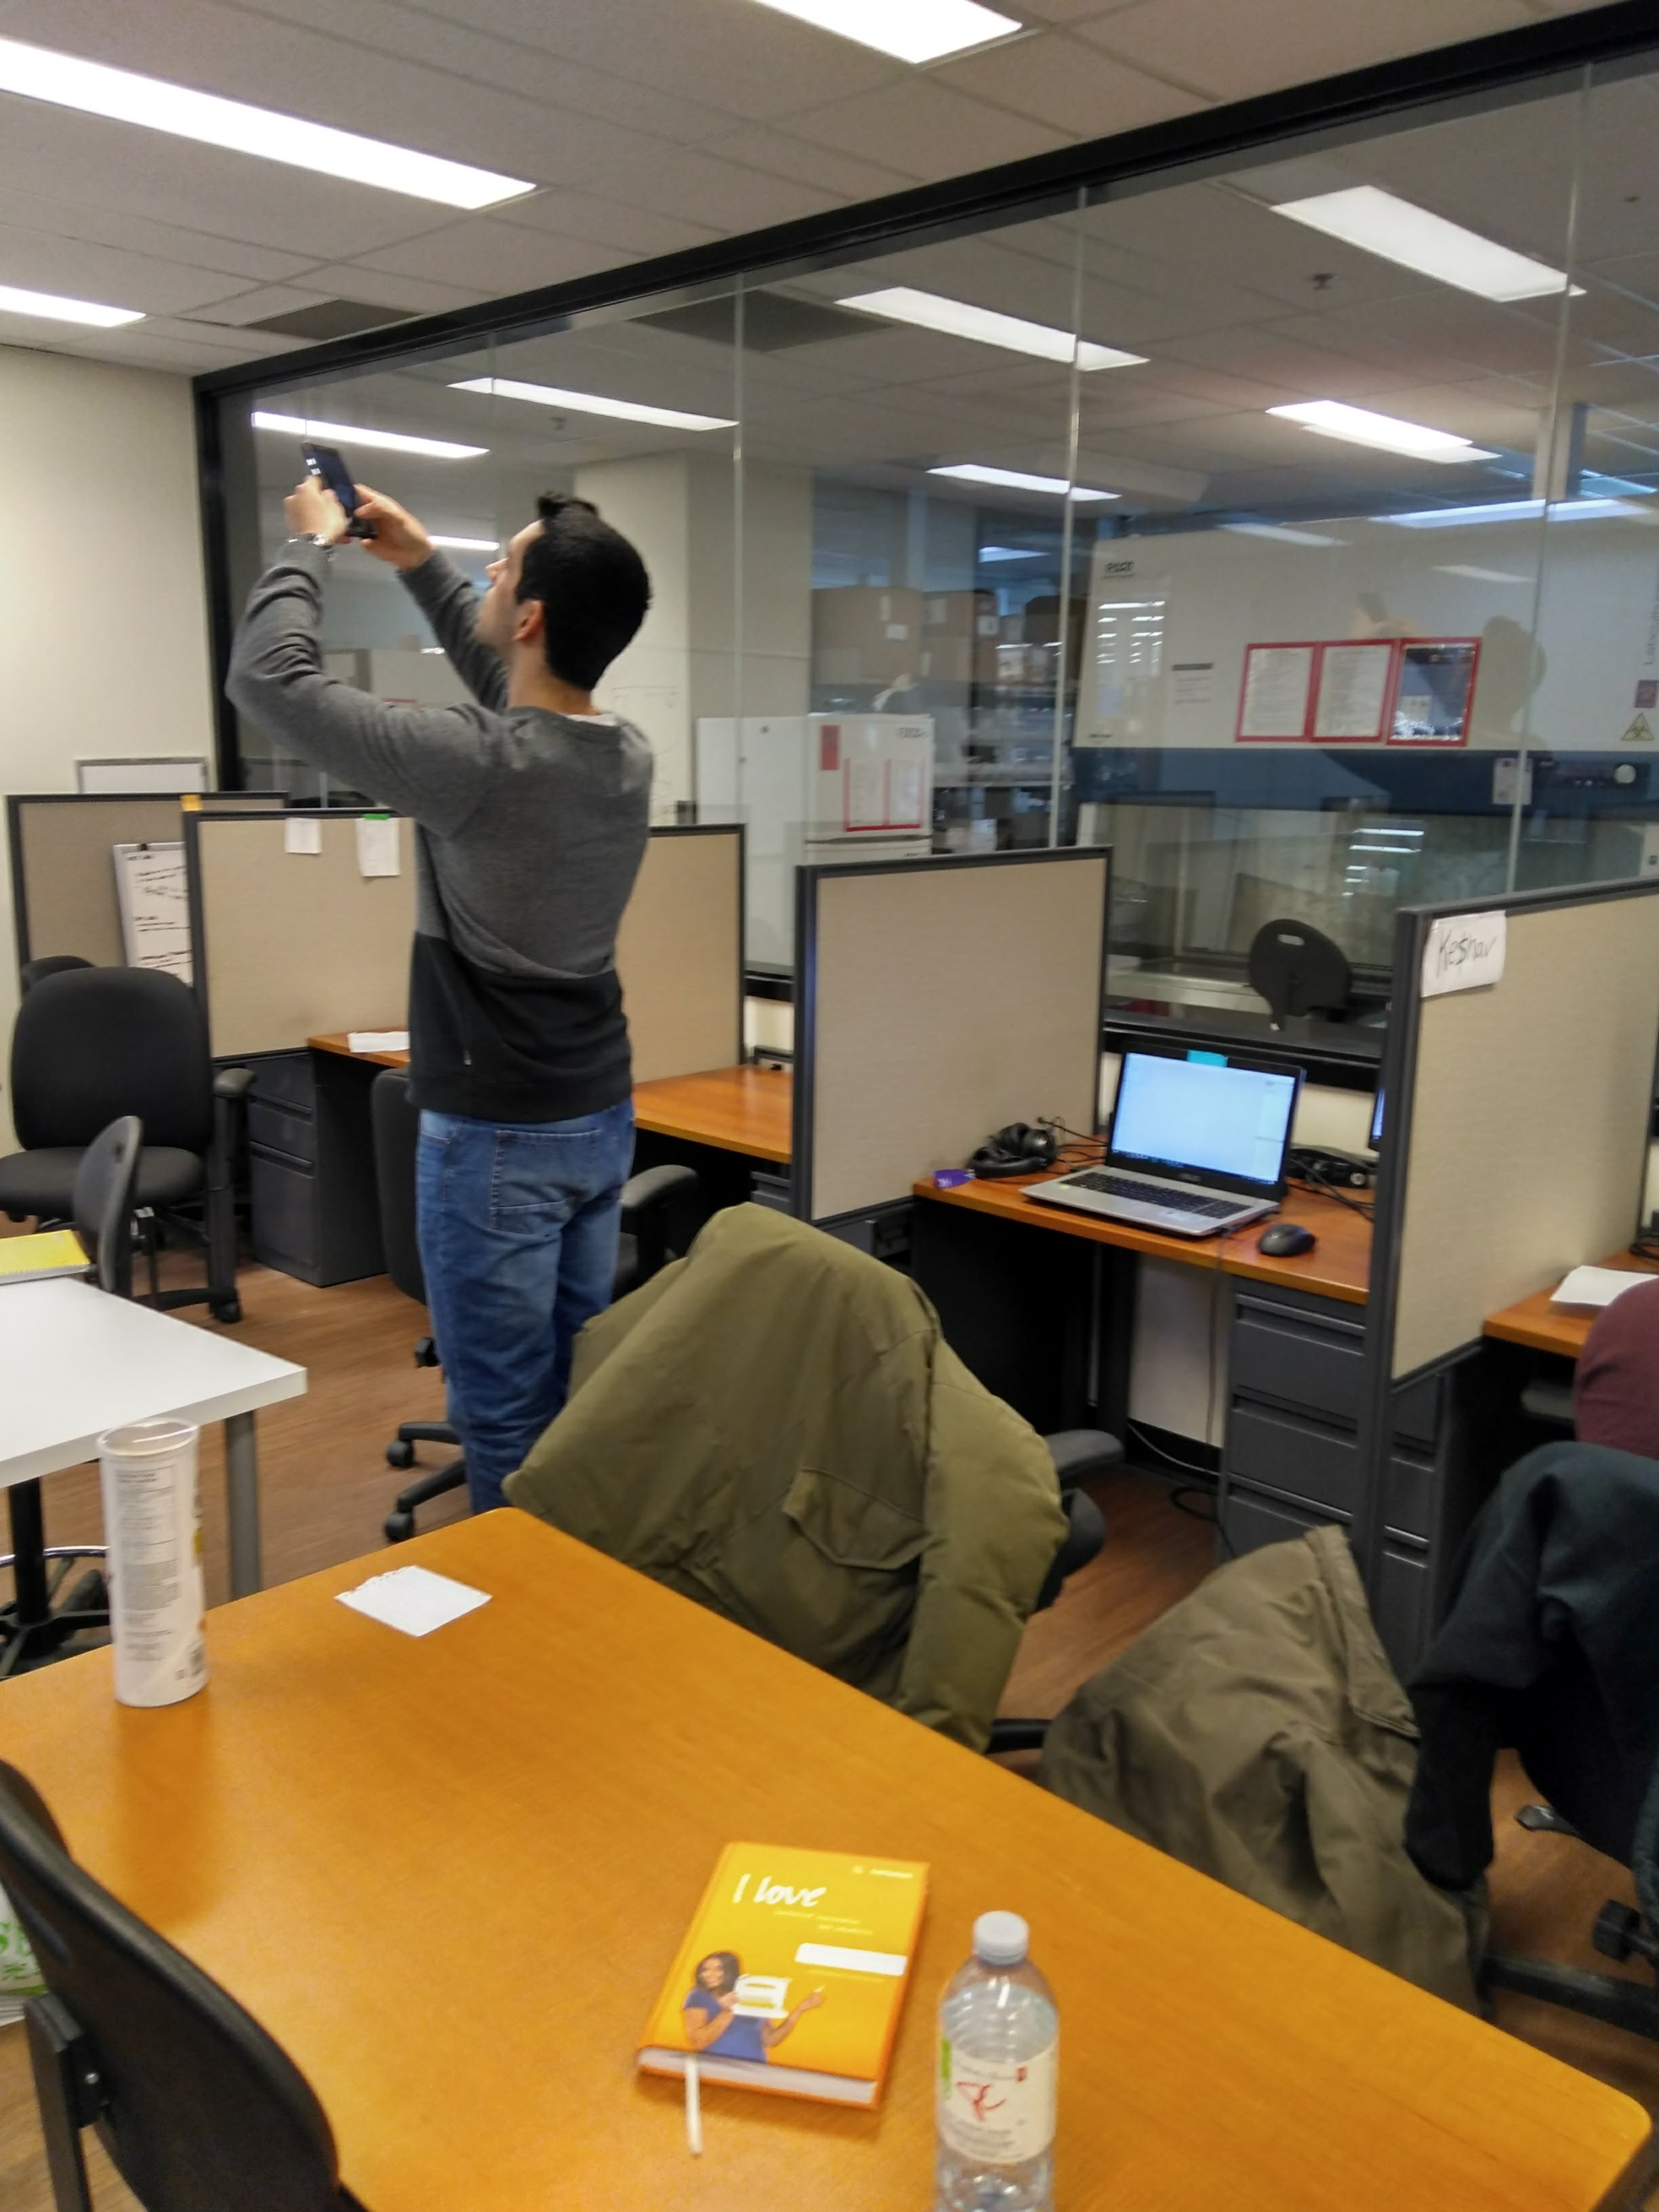pringles: (82, 1404, 235, 1737)
